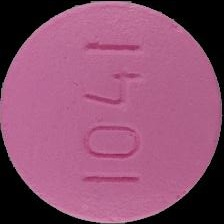68788-6388: (0, 0, 224, 224)
